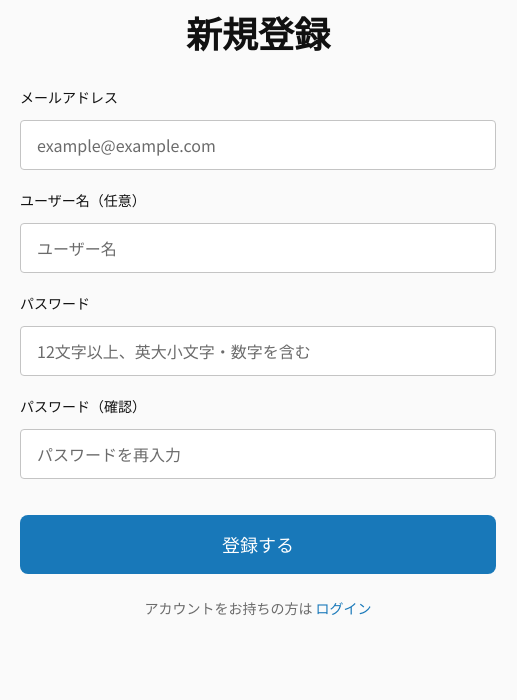
it: RegisterForm › 登録失敗時にエラーが表示される
Type "test@example.com" into the field labelled "メールアドレス".
click(258, 145); type("test@example.com")  # box [20,120,496,170]
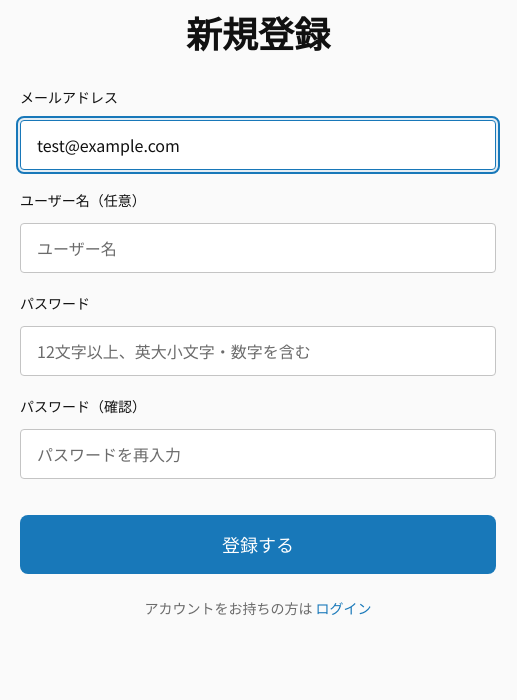
Type "テストユーザー" into the field labelled "ユーザー名（任意）".
click(258, 248); type("テストユーザー")  # box [20,223,496,273]
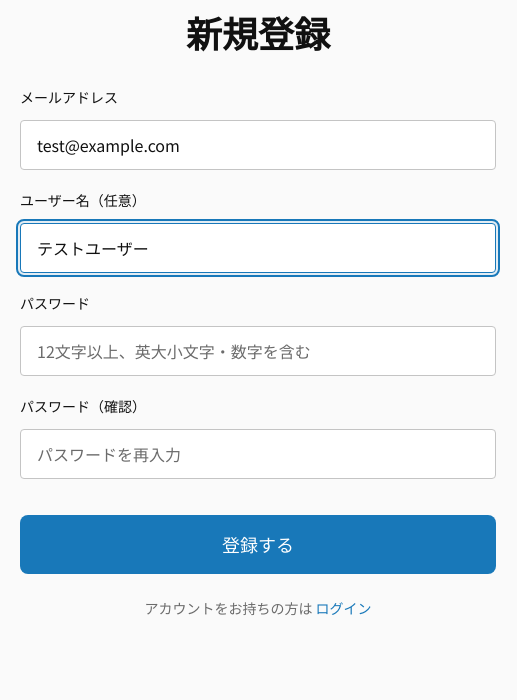
Type "Password1234" into the password field labelled "パスワード".
click(258, 351); type("Password1234")  # box [20,326,496,376]
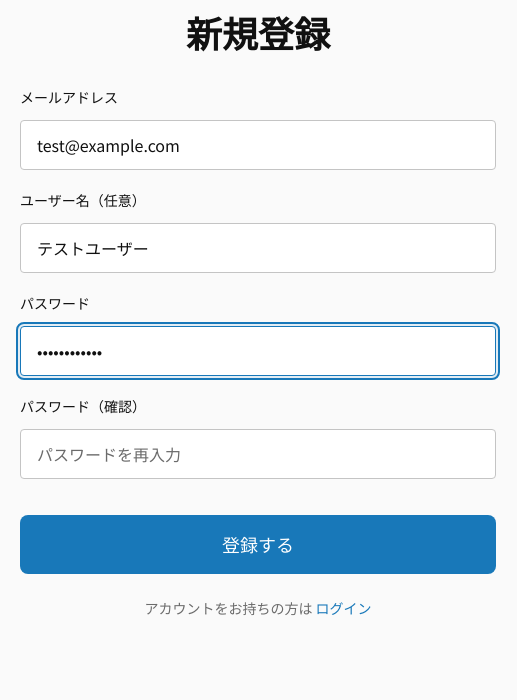
Type "Password1234" into the password field labelled "パスワード（確認）".
click(258, 454); type("Password1234")  # box [20,429,496,479]
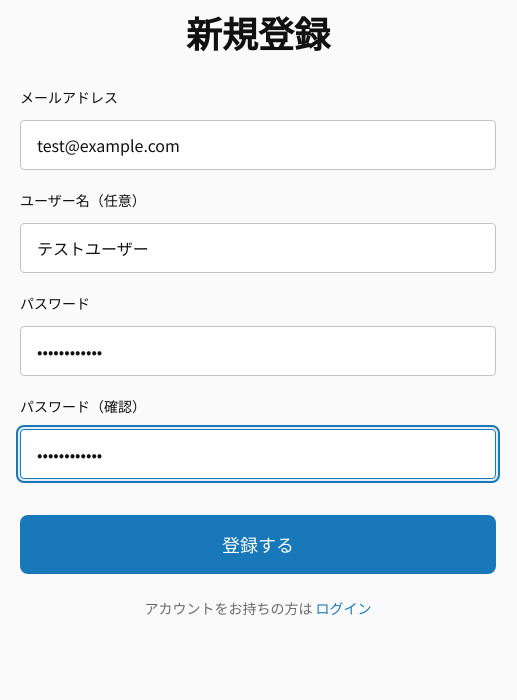
Click the button "登録する".
click(258, 544)  # box [20,515,496,574]
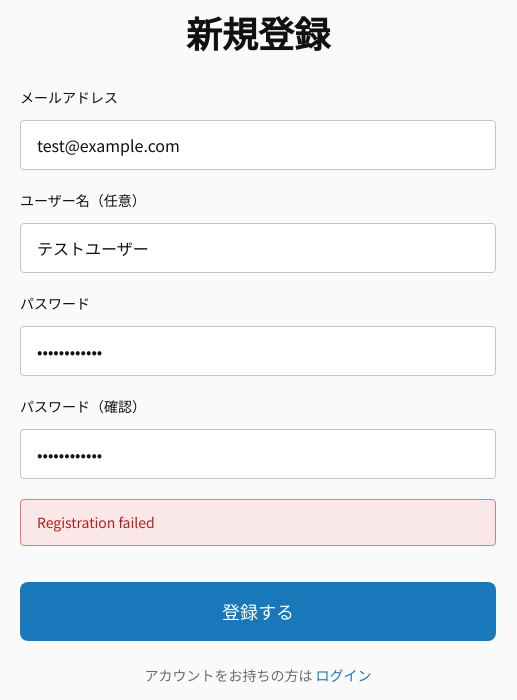
Check: the message "Registration failed" is shown, box [20,499,496,546]
